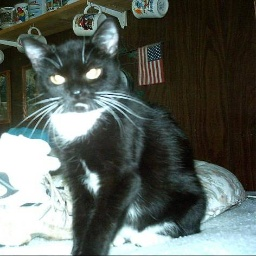cat: (13, 20, 205, 252)
